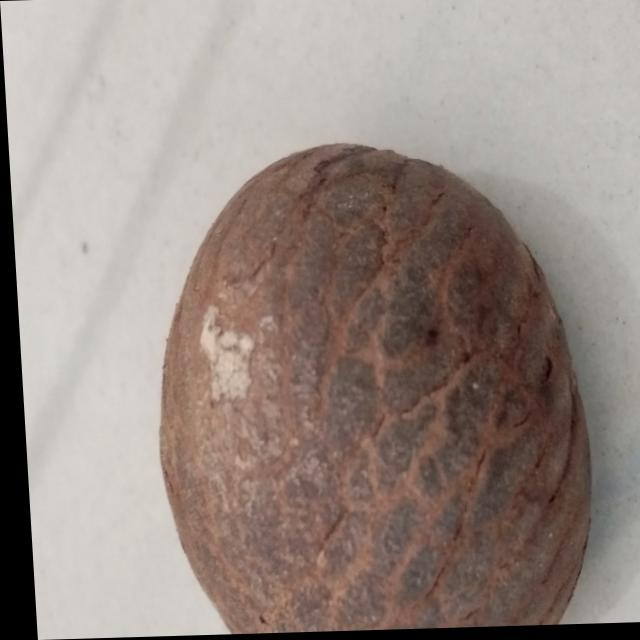karigot: (120, 146, 595, 637)
